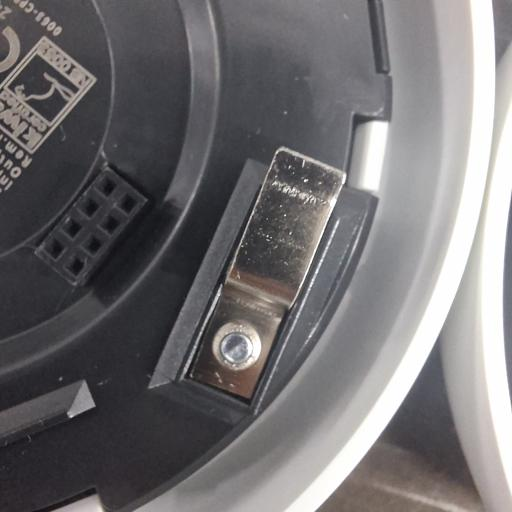yaysiz: (185, 148, 350, 404)
